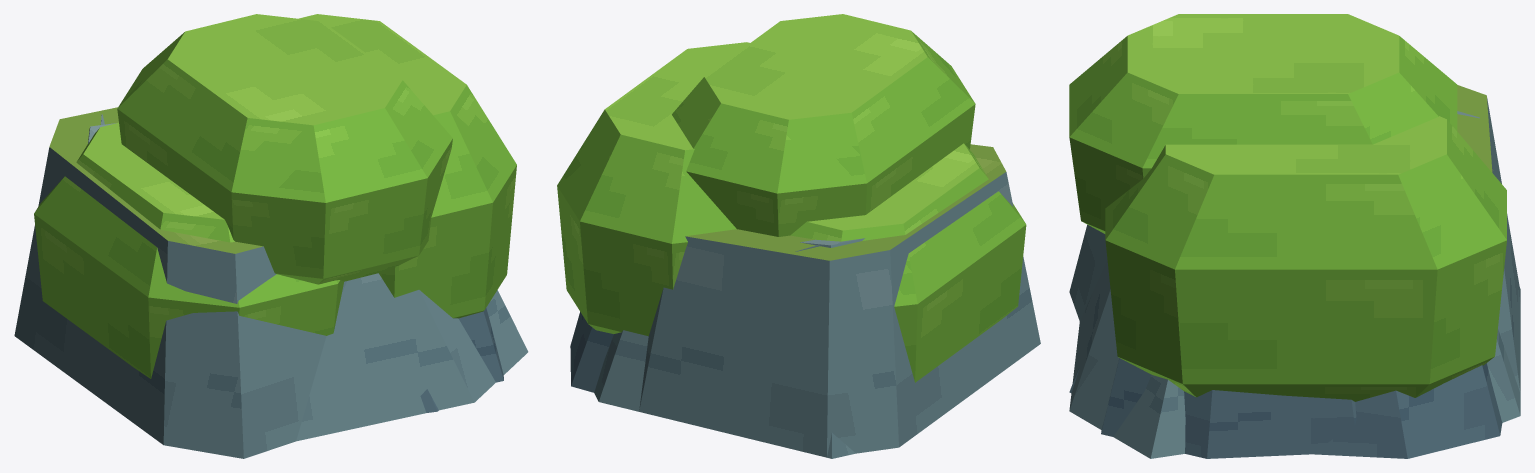
File: nature.glb
The picture shows the model from 3 angles, left to right: view 1: azimuth 30°, elevation 25°; view 2: azimuth 150°, elevation 25°; view 3: azimuth 270°, elevation 25°; orthographic projection. The views are drawn at different scales.
Visible parts, largest first — view 1: bush, cliff, rock_a; view 2: bush, cliff, rock_a, rock_b; view 3: bush, cliff, rock_a, rock_b.
Boxes of the visible parts, box(x1,y1,x2,y2) form: bush: box(34, 14, 516, 378); cliff: box(14, 107, 503, 458); rock_a: box(88, 123, 528, 441); bush: box(557, 14, 1026, 382); cliff: box(639, 144, 1040, 457); rock_a: box(594, 238, 864, 458); rock_b: box(570, 245, 820, 392); bush: box(1069, 14, 1506, 401); cliff: box(1069, 85, 1520, 458); rock_a: box(1069, 260, 1520, 458); rock_b: box(1069, 111, 1502, 458).
Bounding box in the file's own units: 2 × 1.5 × 2.
Materials: 1 (1 with a texture image).
